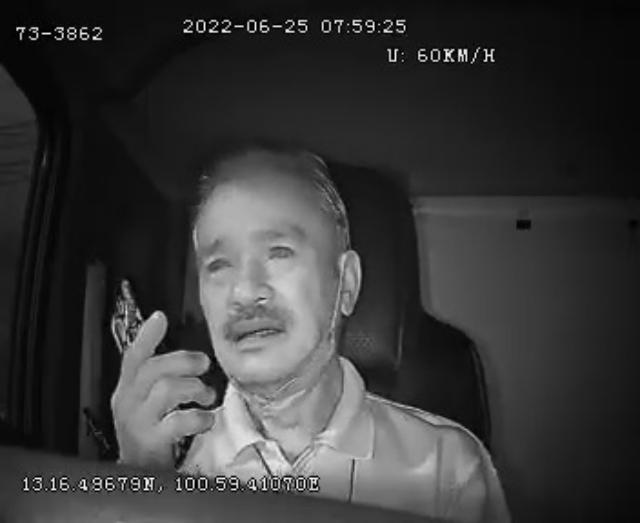PhoneUse: (108, 274, 194, 466)
SafeDriving: (198, 244, 240, 283), (260, 230, 303, 266)
